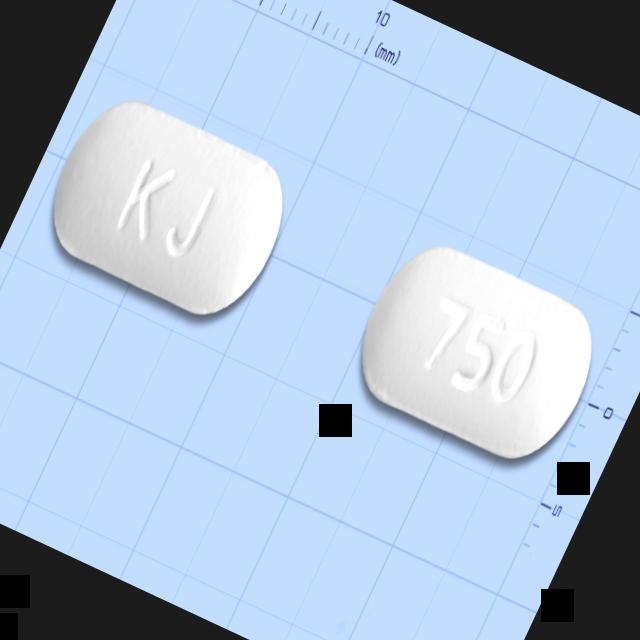Levocaxin: (30, 81, 308, 332), (340, 227, 616, 476)
